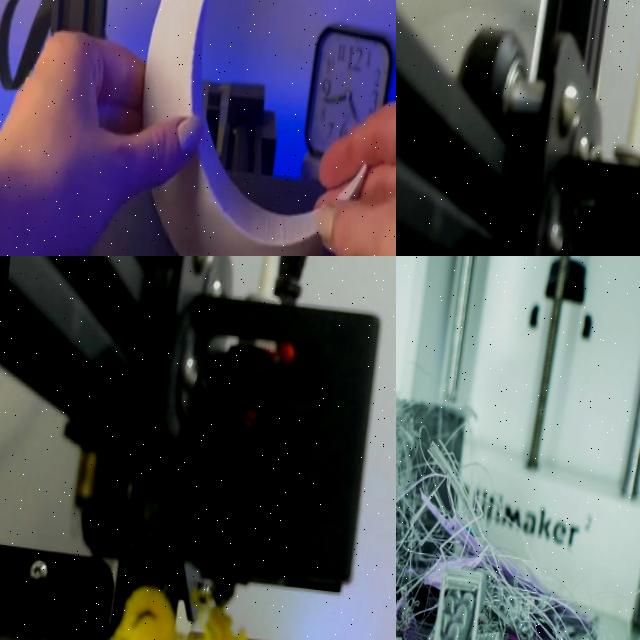spaghetti: (396, 393, 598, 640), (109, 585, 247, 640)
